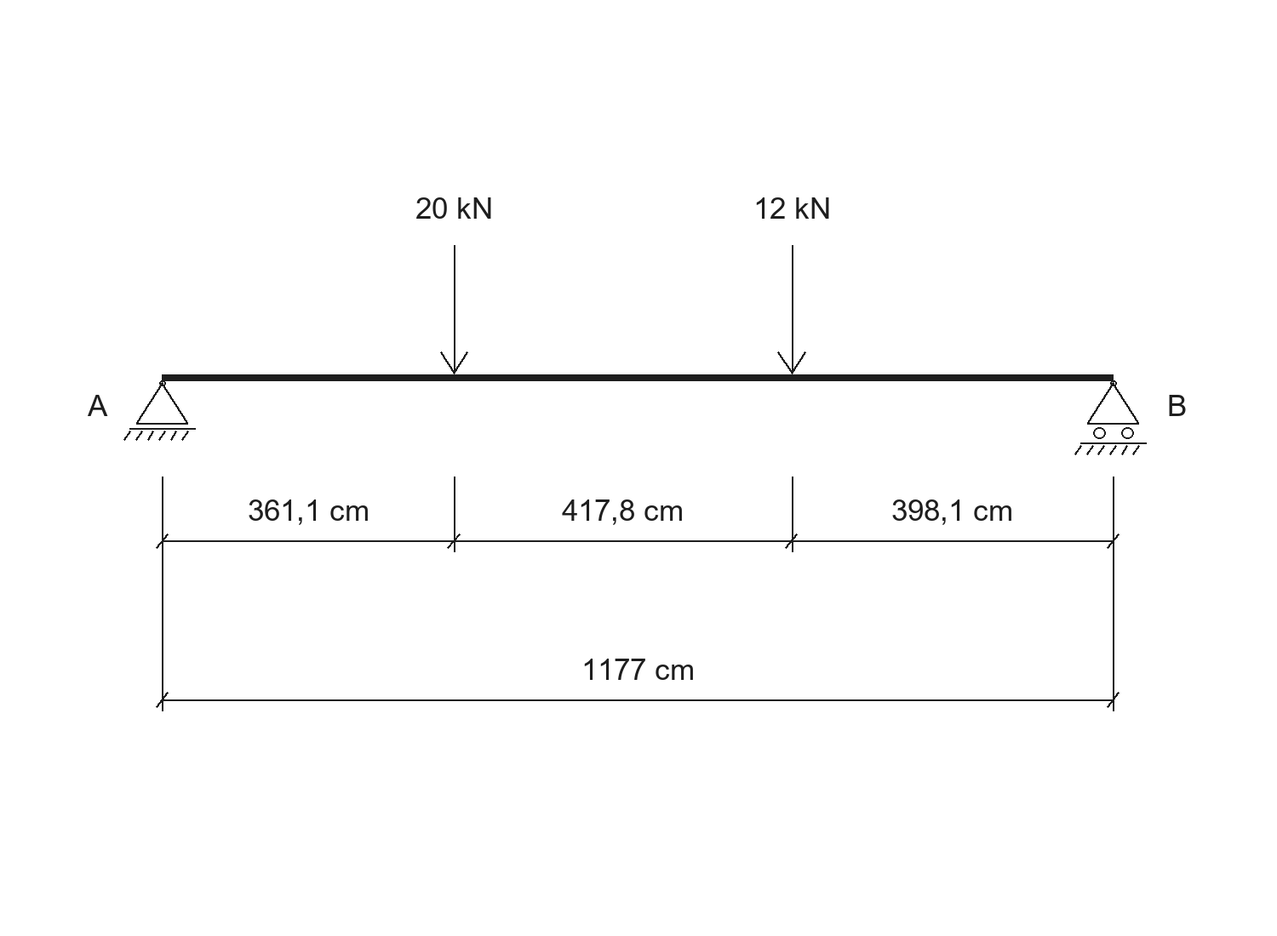pin_support: (123, 380, 196, 441)
point_load: (777, 245, 806, 374), (440, 245, 468, 374)
roller_support: (1074, 380, 1147, 455)
